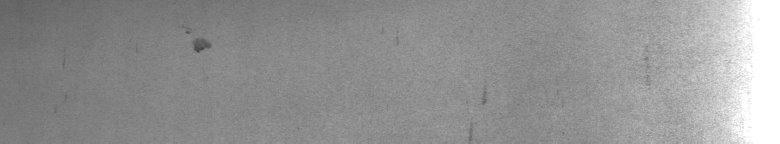fi: (185, 28, 211, 56)
